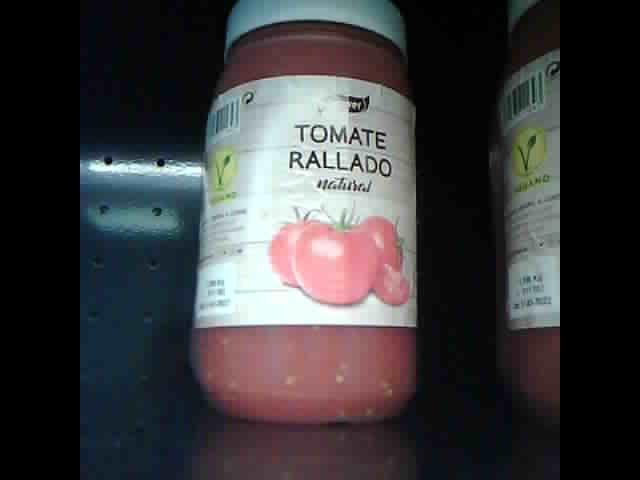tomate: (190, 4, 420, 422), (499, 3, 558, 429)
